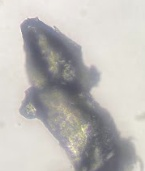microplastic: (17, 16, 145, 171)
